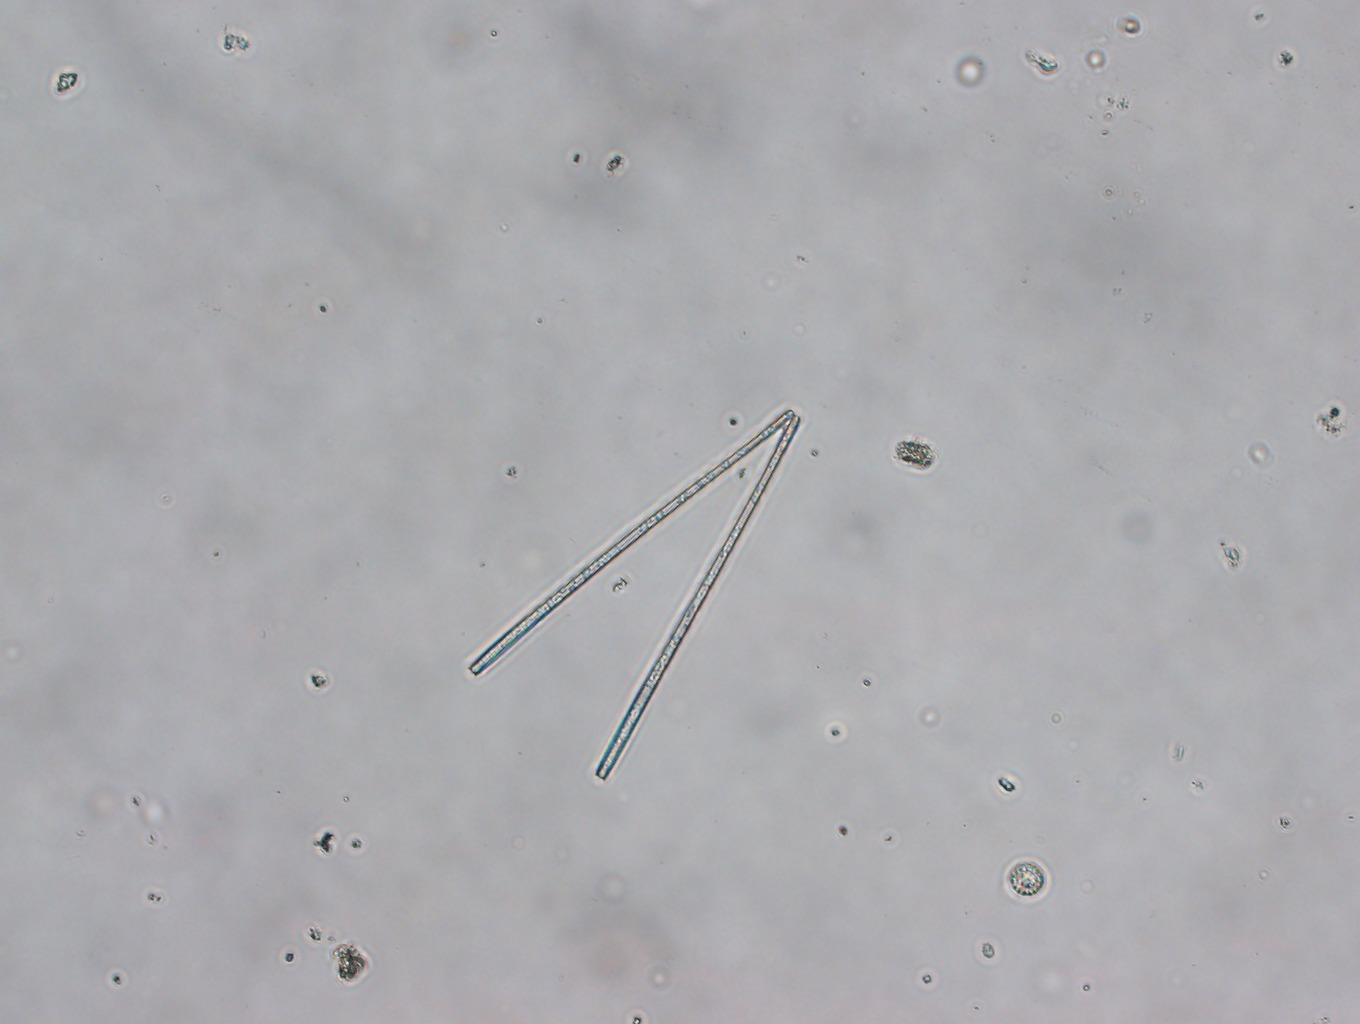thalassionema frauenfeldii: (450, 396, 805, 783)
